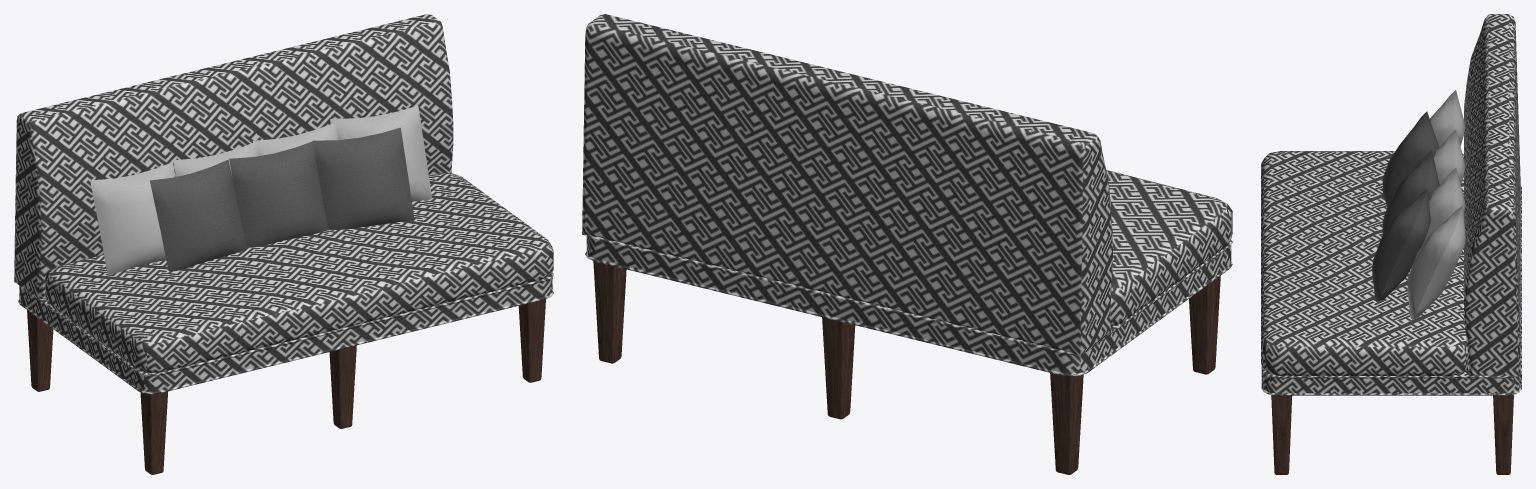
3 renders of one model, left to right at view 1: azimuth 30°, elevation 25°; view 2: azimuth 150°, elevation 25°; view 3: azimuth 270°, elevation 25°, orthographic. The views are drawn at different scales.
Visible parts, largest first — view 1: polySurface146; view 2: polySurface146; view 3: polySurface146.
Part boxes in pixels (left/top/right/bottom): polySurface146: left=14, top=14, right=553, bottom=474; polySurface146: left=582, top=14, right=1232, bottom=474; polySurface146: left=1261, top=14, right=1521, bottom=474.
Bounding box in the file's own units: 1.23 × 0.7859 × 0.6847.
Materials: 1 (1 with a texture image).
